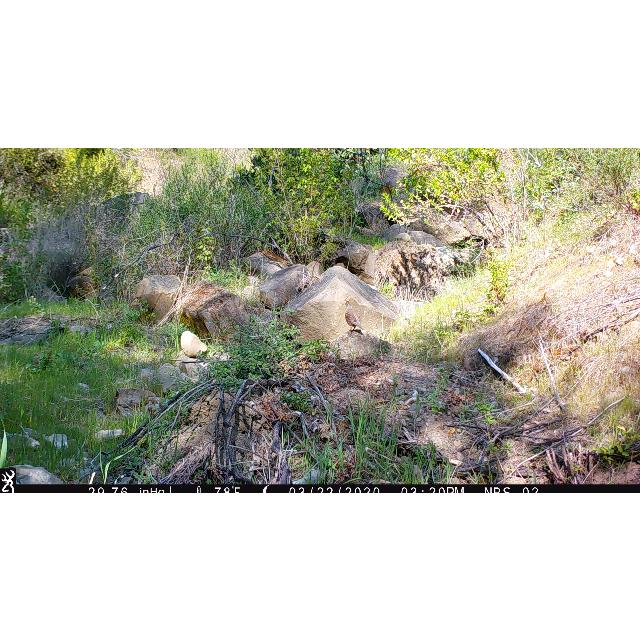animals: (343, 302, 365, 334)
